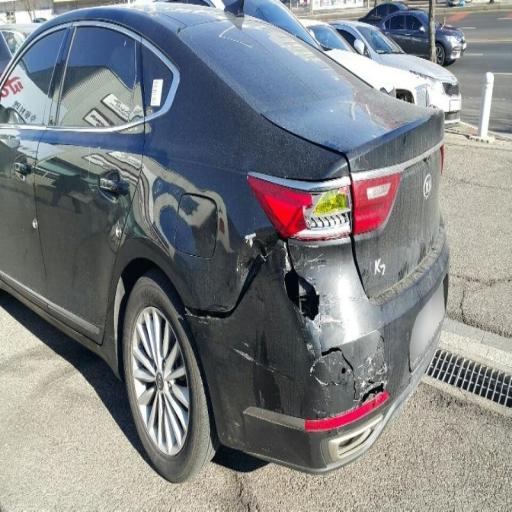broken: (244, 187, 388, 412)
